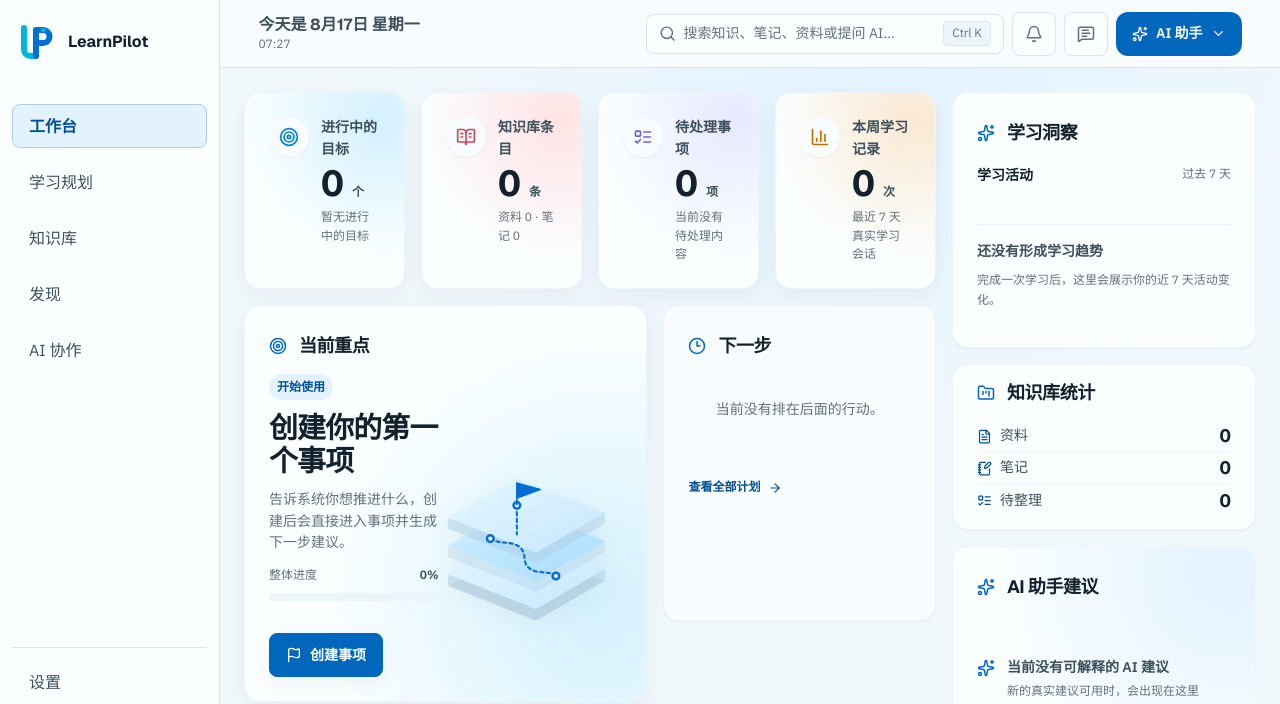
Test case: V12B Frontend IA Migration › 新用户从工作台创建事项后直接进入事项详情，而不是课程页
Step 1. Click the button "创建事项" → (326, 655), box left=269, top=633, right=383, bottom=677
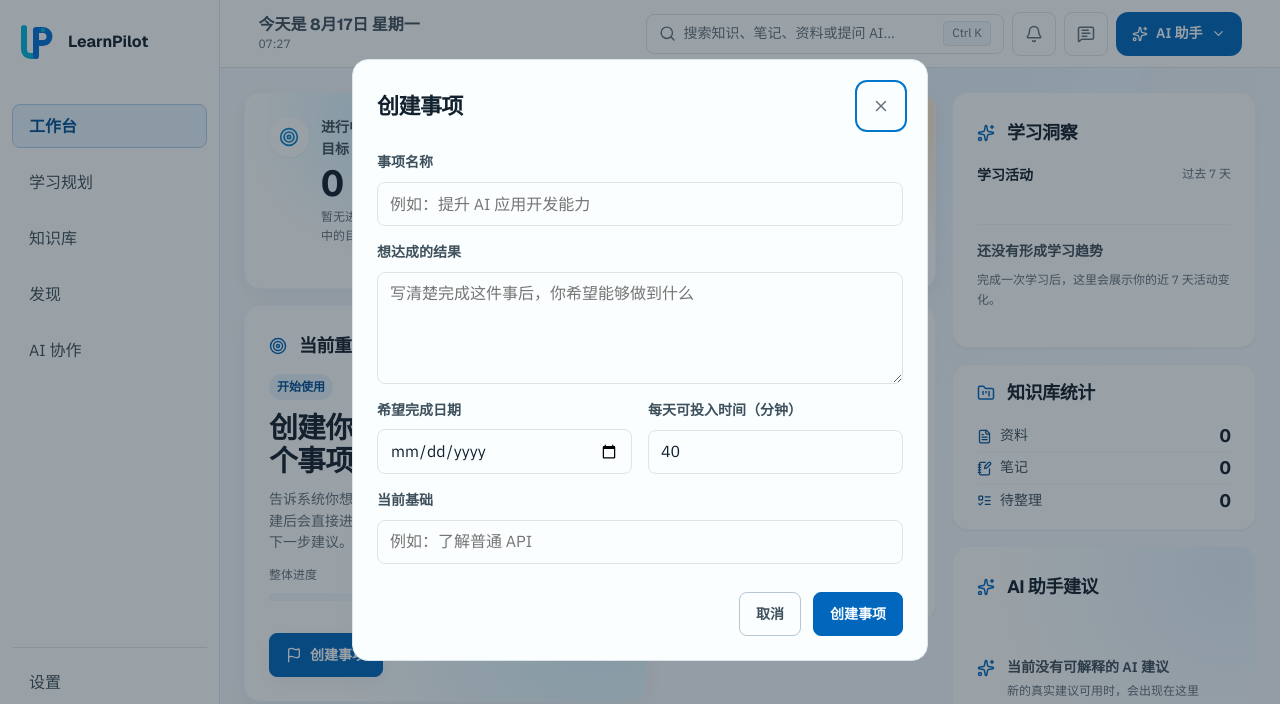
Step 2. Type "提升 AI 应用开发能力" into the field labelled "事项名称" → (640, 204), box left=377, top=182, right=903, bottom=226
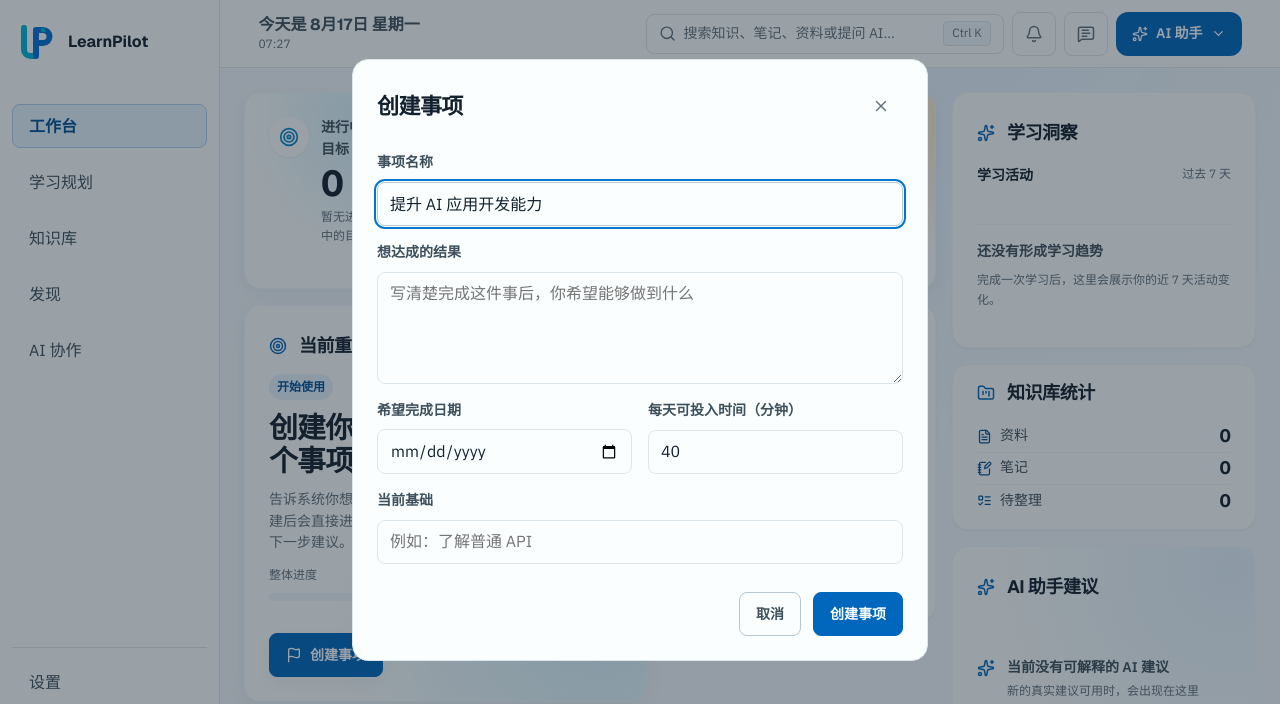
Step 3. Type "能够独立交付带 AI 协作能力的应用" into the text box labelled "想达成的结果" → (640, 328), box left=377, top=272, right=903, bottom=384
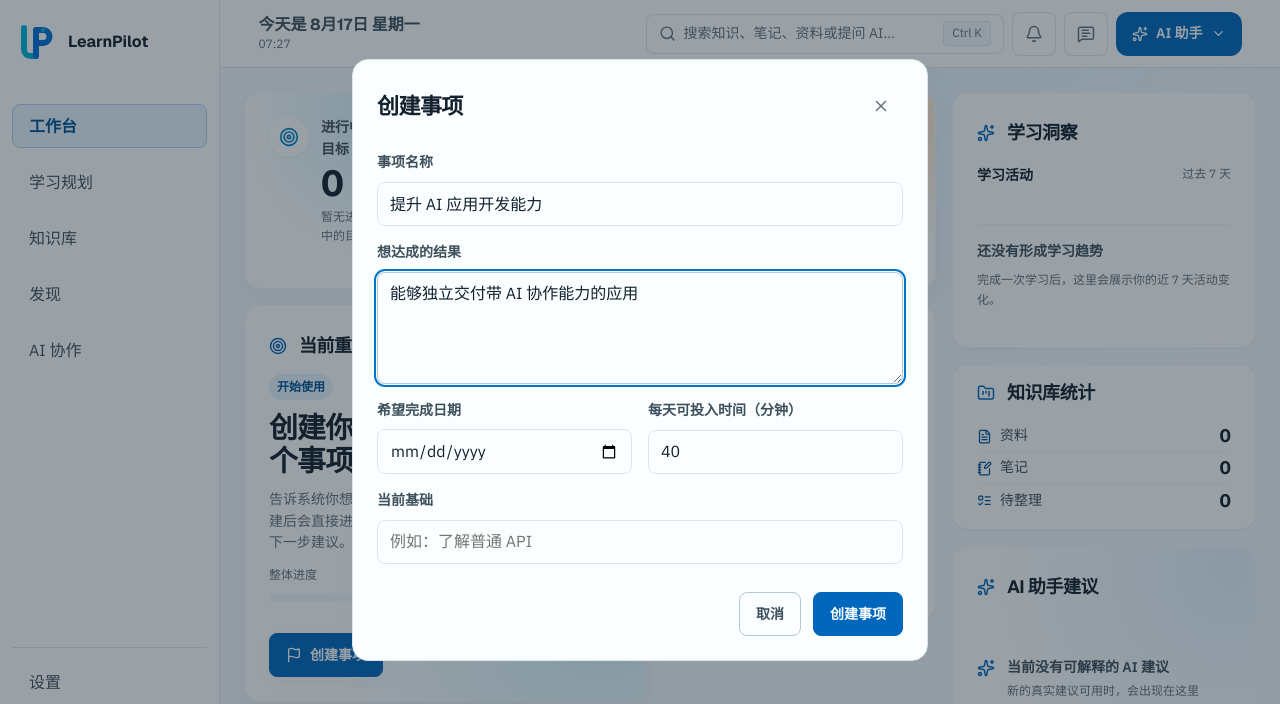
Step 4. Click the button "创建事项" → (858, 614), box left=813, top=592, right=903, bottom=636
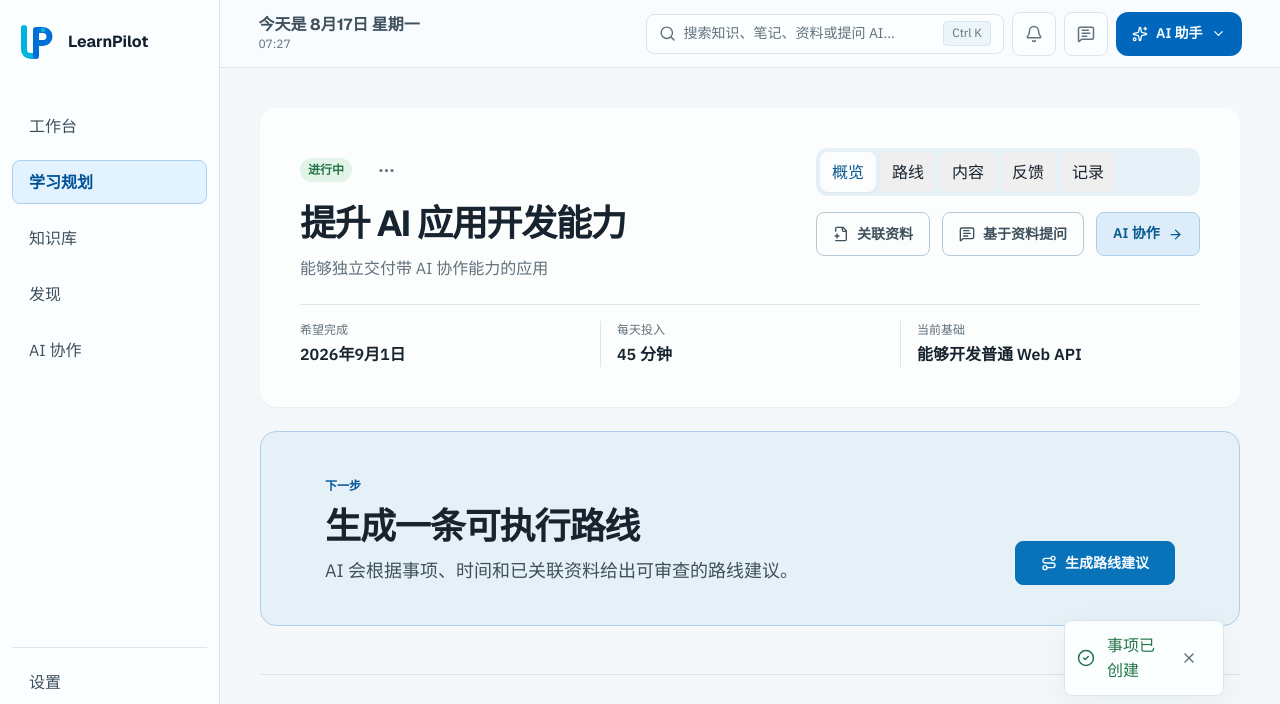
Check: the heading "提升 AI 应用开发能力" is shown, box left=300, top=204, right=626, bottom=244
